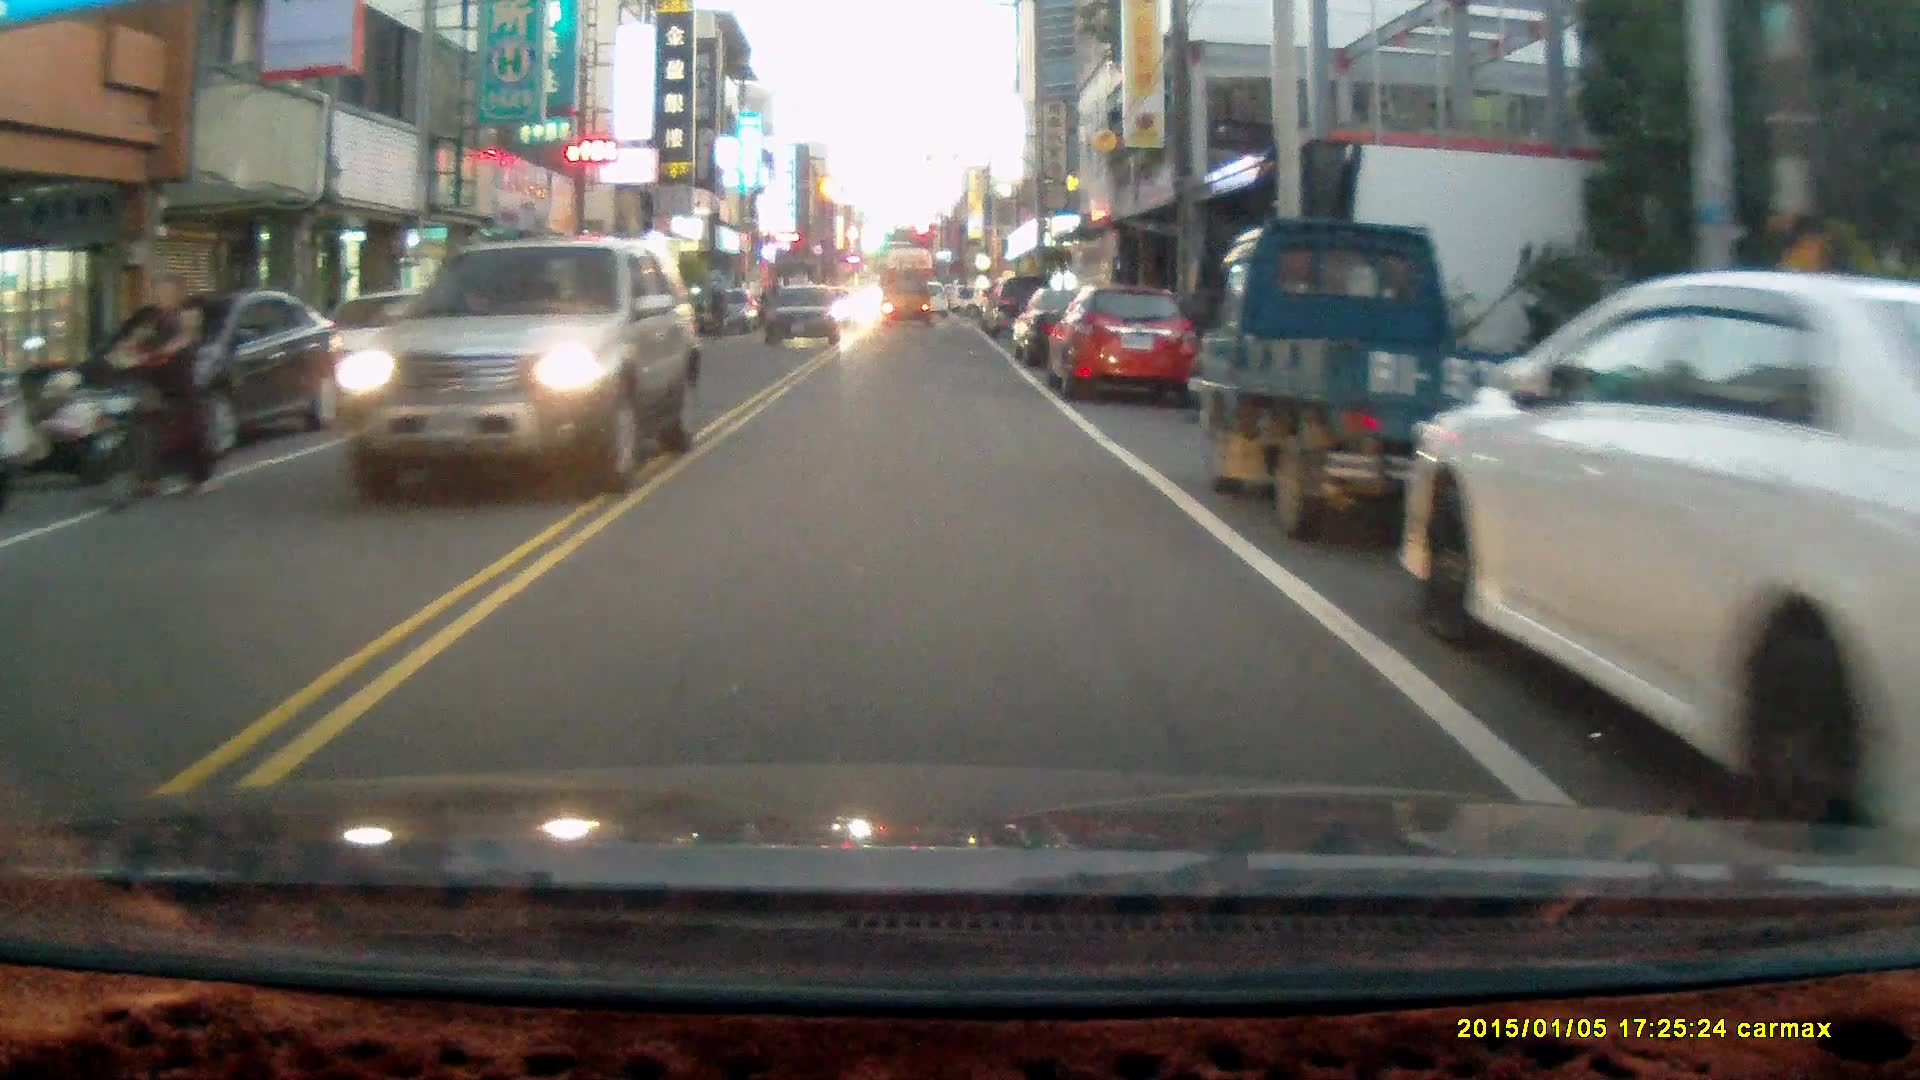pedestrian: (706, 279, 728, 337)
rider: (79, 266, 217, 513)
vehicle: (1399, 273, 1920, 866), (1198, 220, 1597, 552), (334, 241, 701, 500), (1050, 288, 1197, 405), (1007, 286, 1136, 378), (767, 284, 839, 352), (879, 273, 933, 331)
